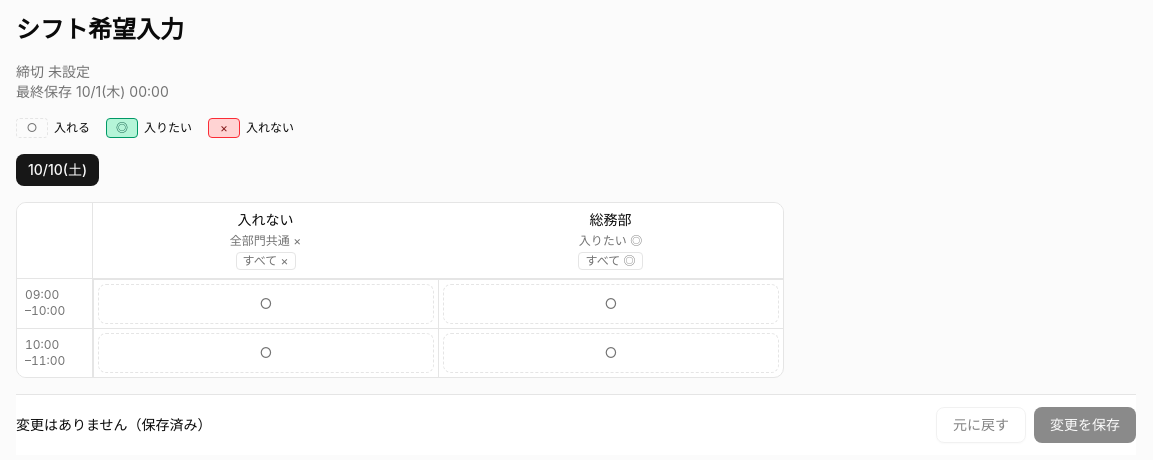
提出後（自動保存） › 変更の1秒後に自動で保存する（それより前には保存しない）
Step 1. Click the button named "09:00から10:00、総務部" → (611, 304), box [443,284,779,324]
Wait 1100 ms
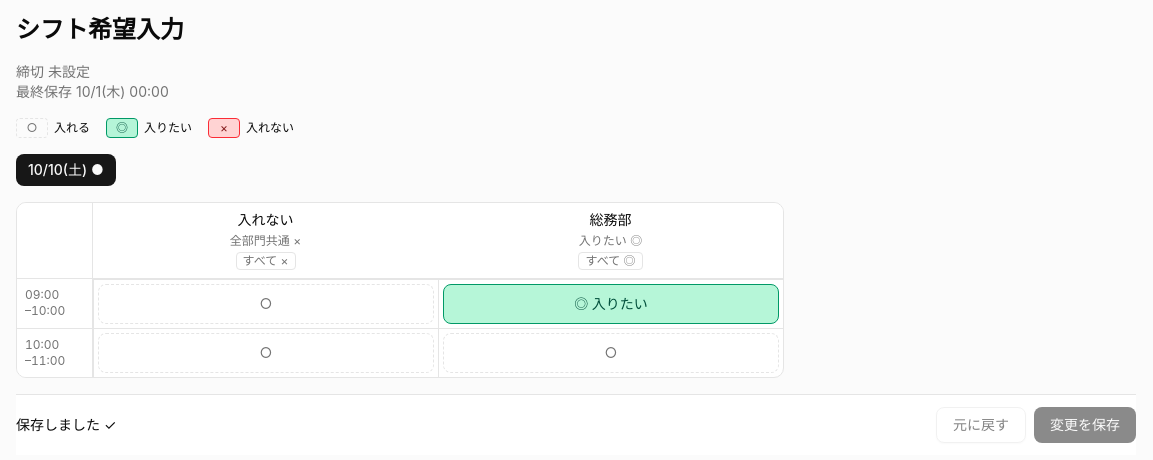
Expected: the text "保存しました ✓" is shown, [16,416,116,432]
